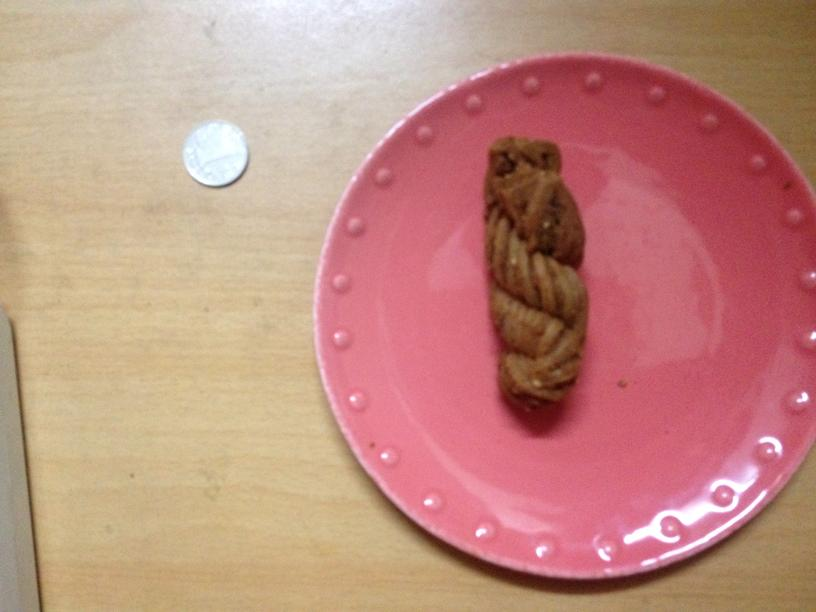coin: (180, 121, 250, 189)
fired_dough_twist: (482, 135, 588, 409)
